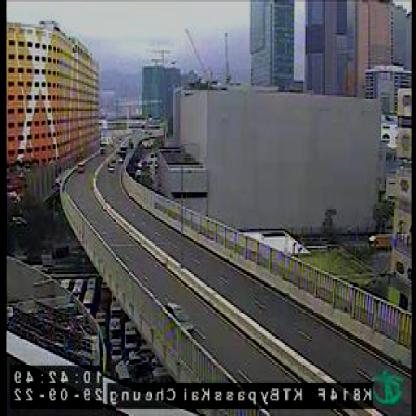Car: (77, 158, 87, 173), (105, 163, 117, 172)
